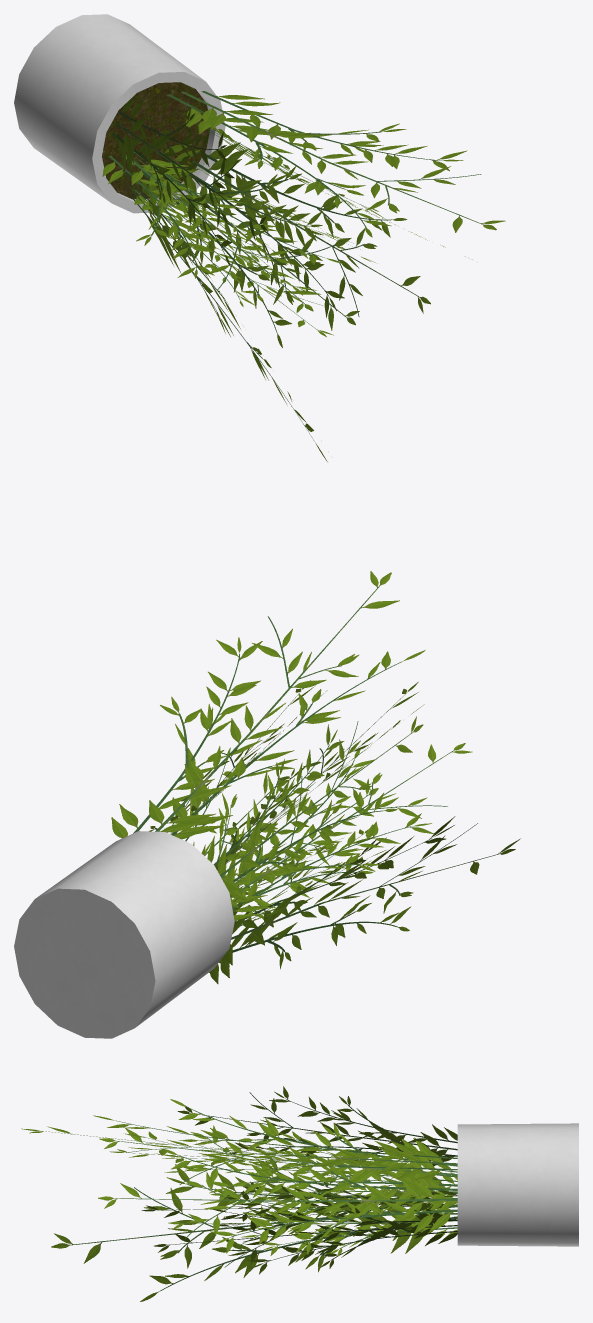
3 renders of one model, top to bottom at view 1: azimuth 30°, elevation 25°; view 2: azimuth 150°, elevation 25°; view 3: azimuth 270°, elevation 25°, orthographic. The views are drawn at different scales.
Visible parts, largest first — view 1: Pot_9_Low_PolyPlant_0; view 2: Pot_9_Low_PolyPlant_0; view 3: Pot_9_Low_PolyPlant_0.
Boxes of the visible parts, box(x1,y1,x2,y2) form: Pot_9_Low_PolyPlant_0: box(14, 14, 505, 461); Pot_9_Low_PolyPlant_0: box(14, 571, 520, 1038); Pot_9_Low_PolyPlant_0: box(21, 1086, 578, 1301).
Size of the model in its own units: 0.9064 by 0.8938 by 1.96.
1 material, 1 textured.
